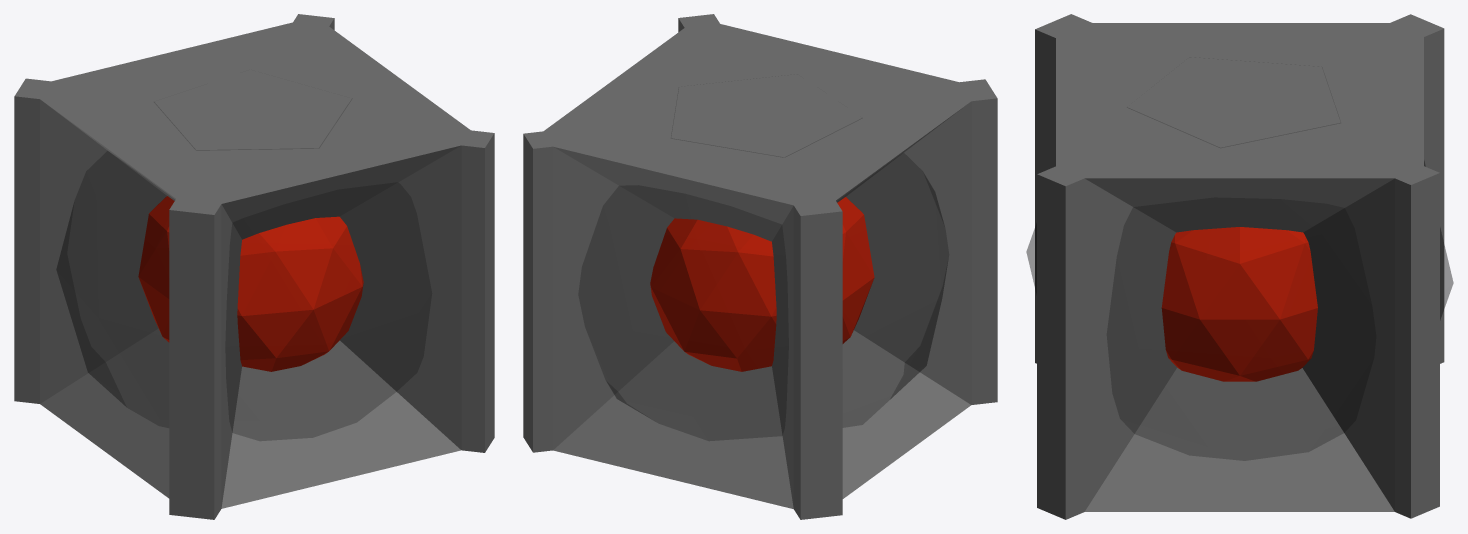
File: mainAIcube.fbx
3 renders of one model, left to right at view 1: azimuth 30°, elevation 25°; view 2: azimuth 150°, elevation 25°; view 3: azimuth 270°, elevation 25°, orthographic. The views are drawn at different scales.
Parts seen in each view (by area): view 1: Cube, Icosphere, Icosphere.001; view 2: Cube, Icosphere, Icosphere.001; view 3: Cube, Icosphere, Icosphere.001.
Part boxes in pixels (box(x1,y1,x2,y2)): Cube: box(14, 14, 494, 519); Icosphere: box(56, 101, 431, 440); Icosphere.001: box(138, 196, 363, 371); Cube: box(523, 14, 997, 519); Icosphere: box(578, 118, 948, 440); Icosphere.001: box(650, 197, 874, 371); Cube: box(1035, 14, 1444, 519); Icosphere: box(1026, 107, 1453, 460); Icosphere.001: box(1161, 227, 1317, 381).
Size of the model in its own units: 233 by 200 by 232.
